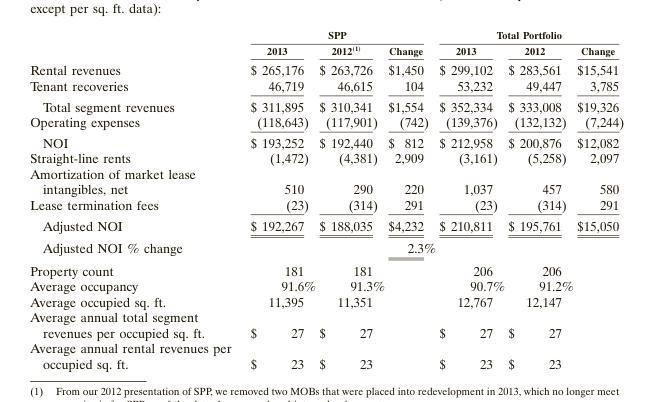table: (29, 28, 623, 371)
table column: (29, 28, 240, 371), (240, 28, 316, 371), (316, 28, 385, 371), (436, 28, 505, 371), (505, 28, 574, 371), (385, 28, 436, 371), (574, 28, 623, 371)
table column header: (29, 28, 623, 59)
table row: (29, 339, 623, 371), (29, 165, 623, 196), (29, 308, 623, 339), (29, 214, 623, 236), (29, 236, 623, 258), (29, 131, 623, 150), (29, 258, 623, 277), (29, 59, 623, 77), (29, 77, 623, 95), (29, 95, 623, 113), (29, 113, 623, 131), (29, 196, 623, 214), (29, 42, 623, 59), (29, 277, 623, 293), (29, 150, 623, 165), (29, 293, 623, 308), (29, 28, 623, 42)
table spanning cell: (240, 28, 436, 42), (436, 28, 623, 42)
